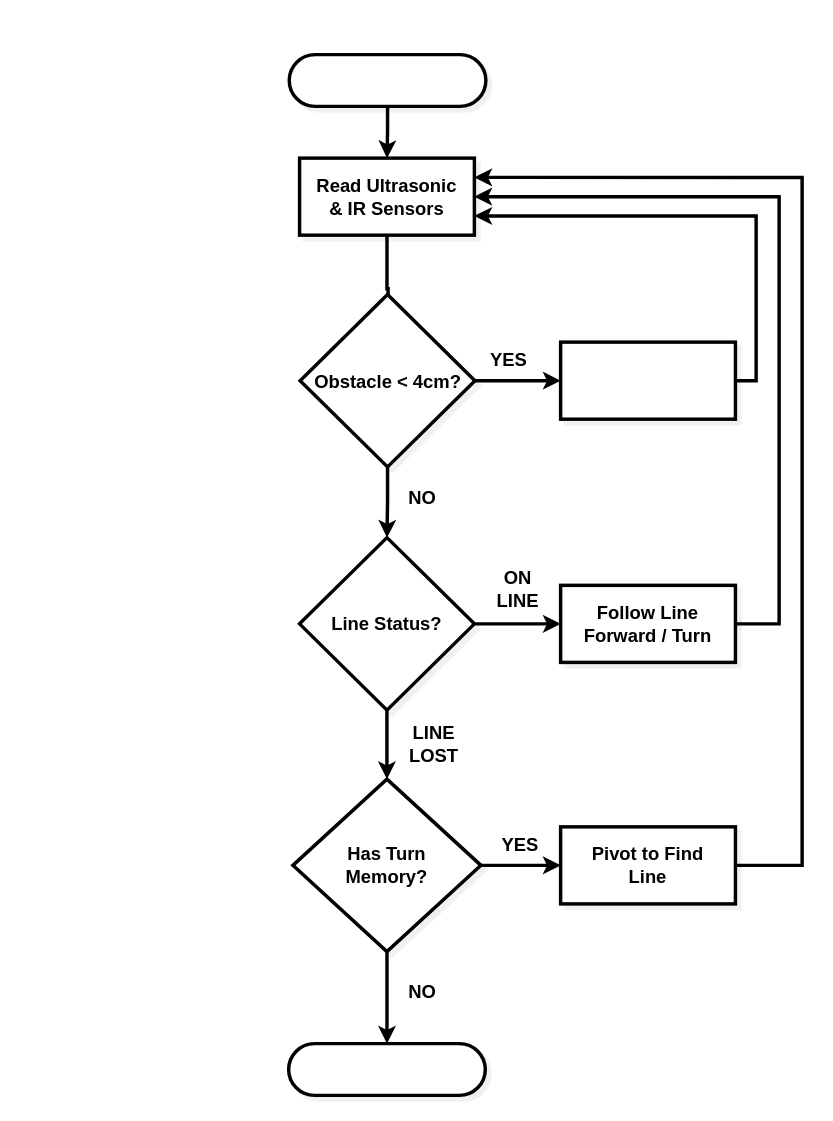
Some shapes in this 833 by 1121 pixel diagram are drawn without their labels. Each missing label, with the centre of its shape:
Avoid Obstacle & Search Line: point 649,382
Start: point 389,82
Stop / Finish: point 388,1071
